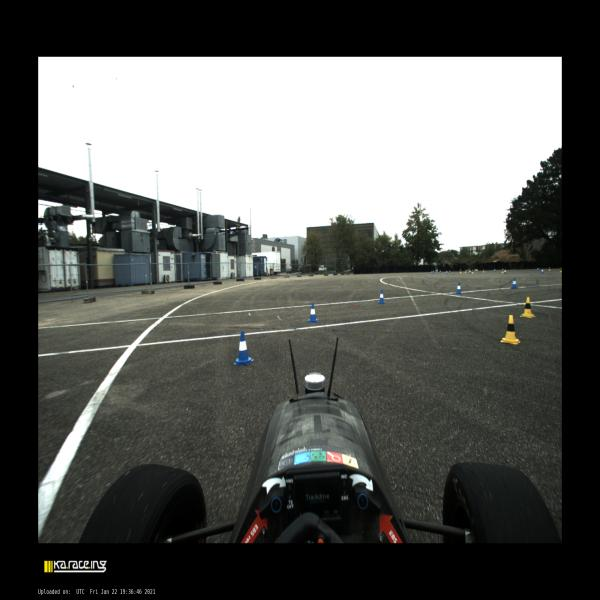blue_cone: (233, 331, 254, 366), (308, 303, 318, 322), (378, 290, 386, 304), (510, 278, 518, 288), (456, 282, 462, 294), (541, 268, 544, 274), (504, 269, 507, 274), (445, 270, 448, 274), (432, 270, 435, 273), (430, 270, 432, 274), (469, 270, 471, 274), (537, 267, 539, 271), (439, 270, 441, 273), (449, 270, 451, 273), (466, 270, 468, 272), (494, 268, 495, 272)
yellow_cone: (501, 315, 520, 344), (520, 298, 536, 318), (501, 268, 504, 274), (548, 267, 551, 271), (472, 270, 474, 274), (560, 268, 562, 272), (464, 270, 467, 272), (460, 270, 462, 273), (483, 269, 485, 272)
